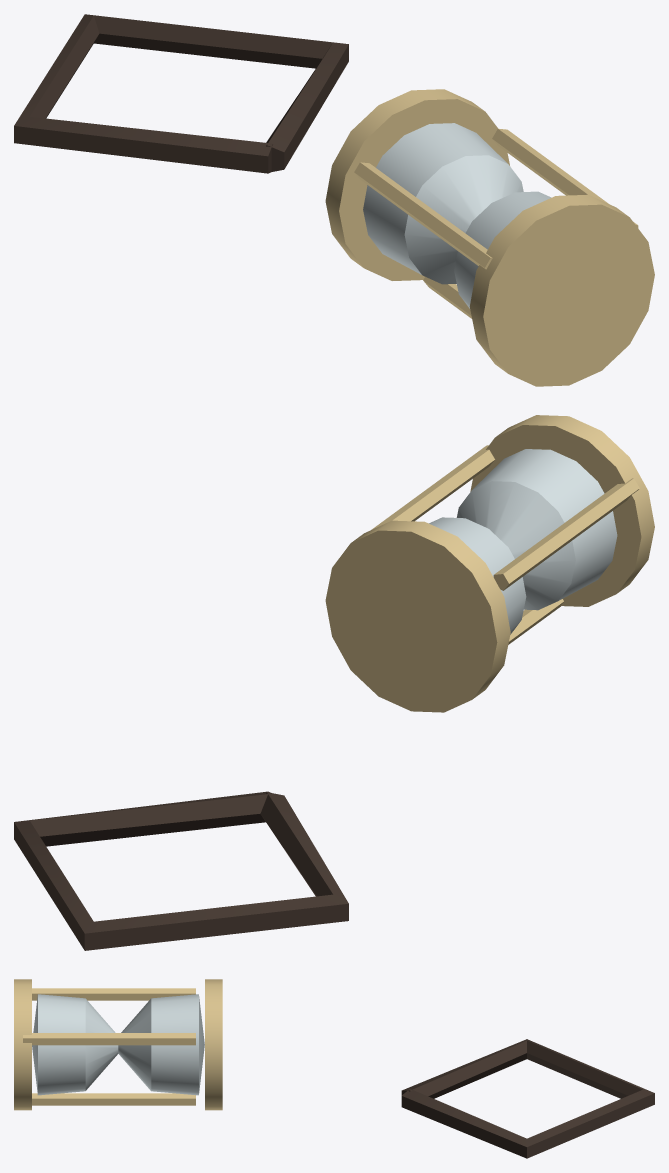
Rendered from sands_of_tempo.glb.
3 renders of one model, top to bottom at view 1: azimuth 30°, elevation 25°; view 2: azimuth 150°, elevation 25°; view 3: azimuth 270°, elevation 25°, orthographic. The views are drawn at different scales.
Visible parts, largest first — view 1: sands_of_tempo; view 2: sands_of_tempo; view 3: sands_of_tempo.
Part boxes in pixels (x1,y1,x2,y2): sands_of_tempo: (14, 14, 654, 386); sands_of_tempo: (14, 415, 654, 950); sands_of_tempo: (14, 979, 654, 1158).
Size of the model in its own units: 0.0429 by 0.0227 by 0.1075.
